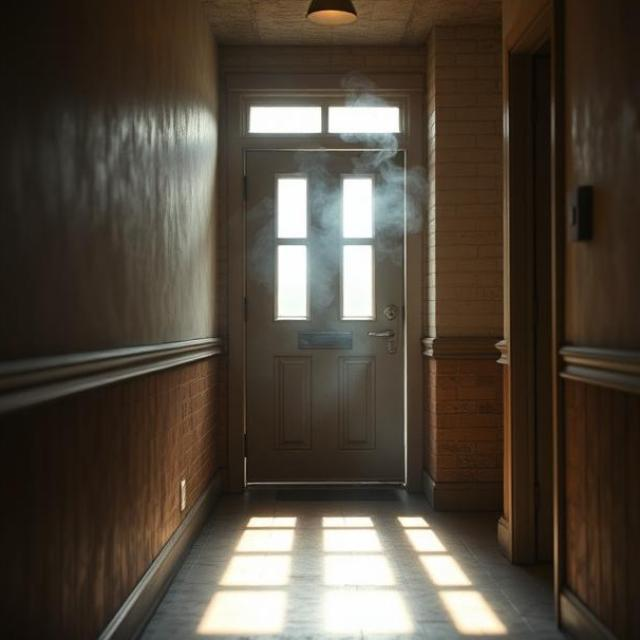fire: (237, 68, 426, 373)
